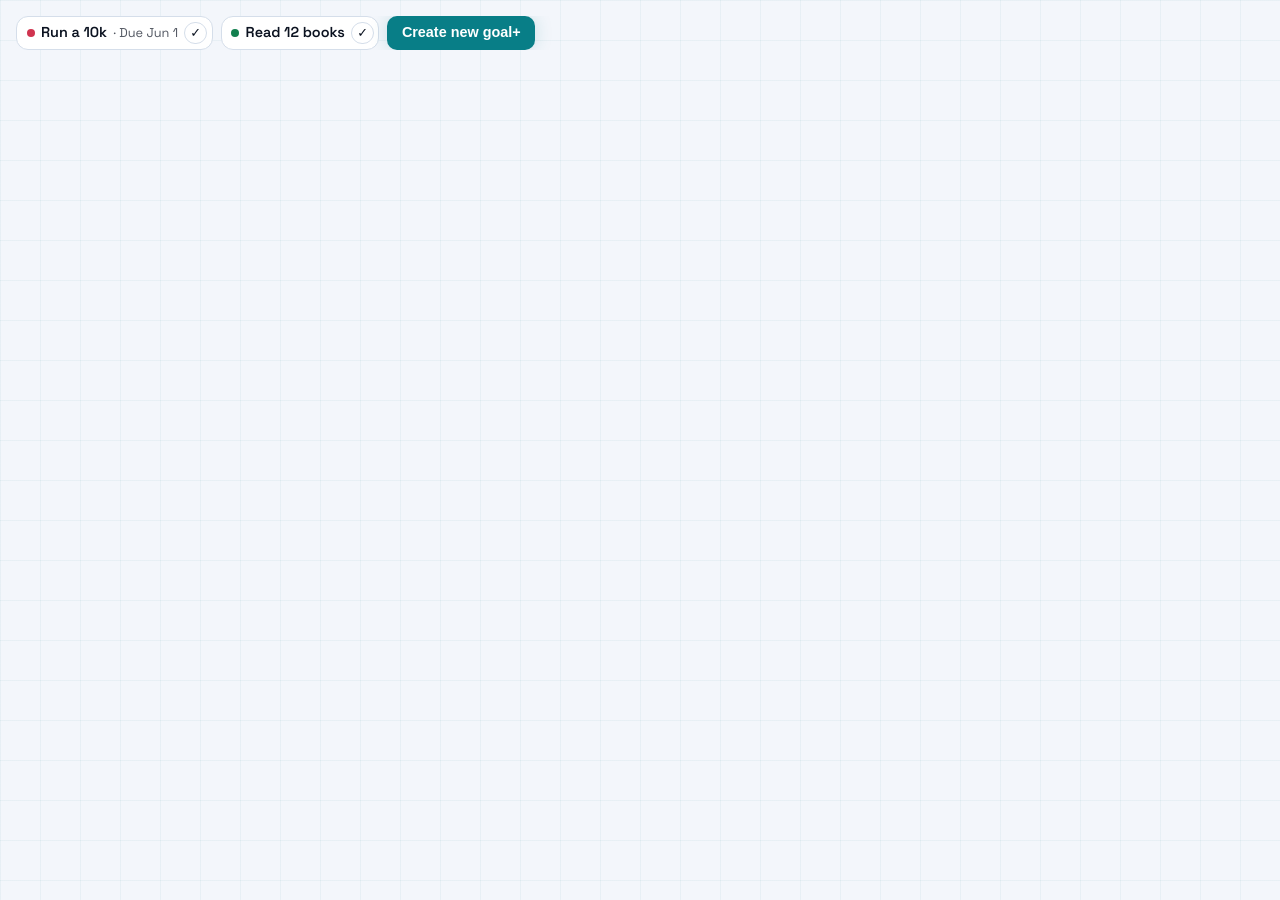
GoalChip expanding › clicking expands it to show the description and controls
What coordinates should you click on to do the following:
click the button with class "goal-chip-header" showing "Run a 10k Due Jun 1 ✓"
I would click on:
 (74, 32)
Its box is x1=17 y1=17 x2=212 y2=49.
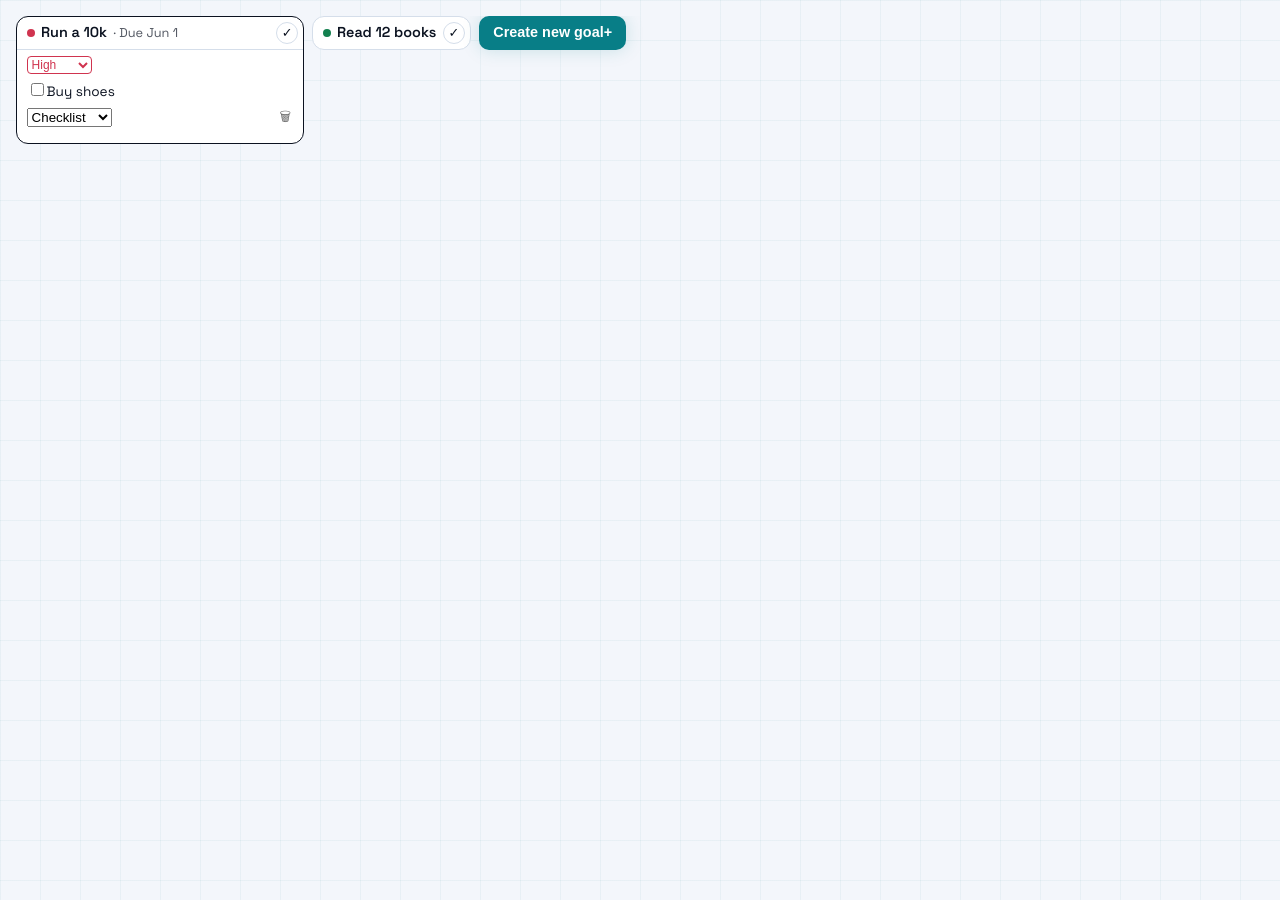
Now the element with class "goal-chip" shows "Buy shoes", box x1=47 y1=83 x2=115 y2=100
Now the dropdown named "Priority" is shown, box x1=27 y1=56 x2=92 y2=74
Now the dropdown named "Description style" is shown, box x1=27 y1=108 x2=112 y2=127
